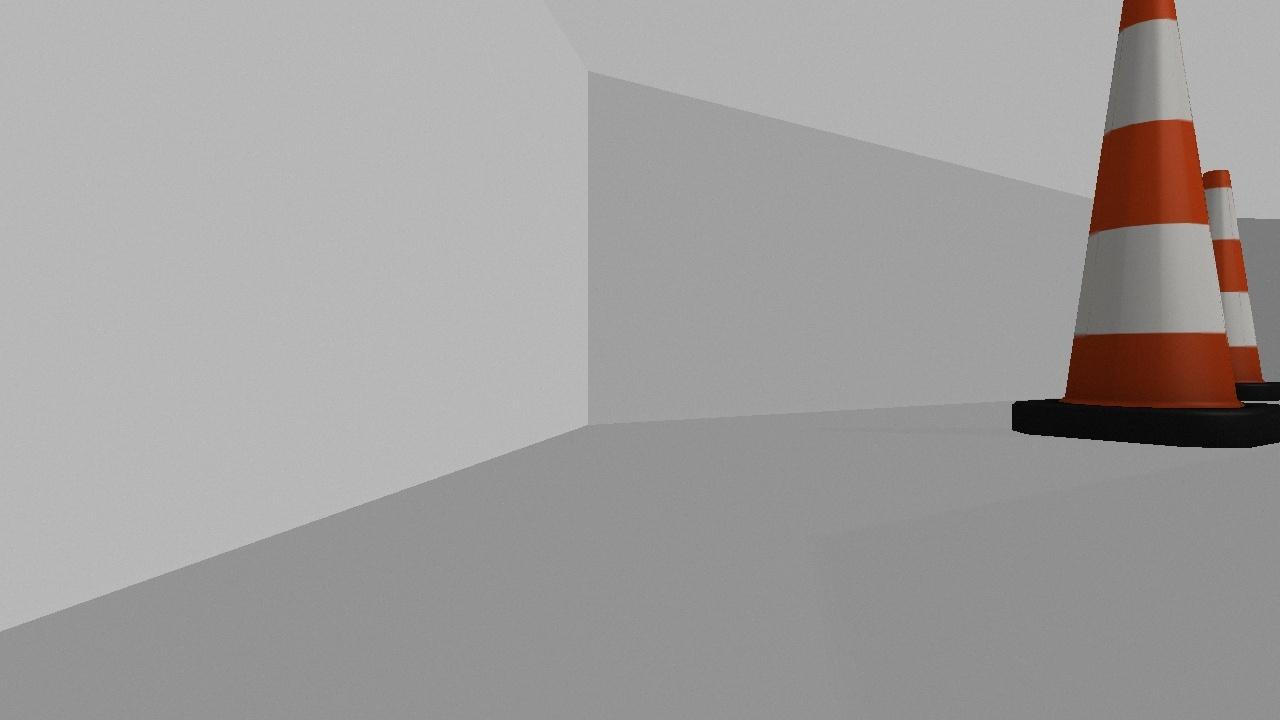cone_barrel: (1012, 4, 1279, 449), (1166, 166, 1279, 403)
